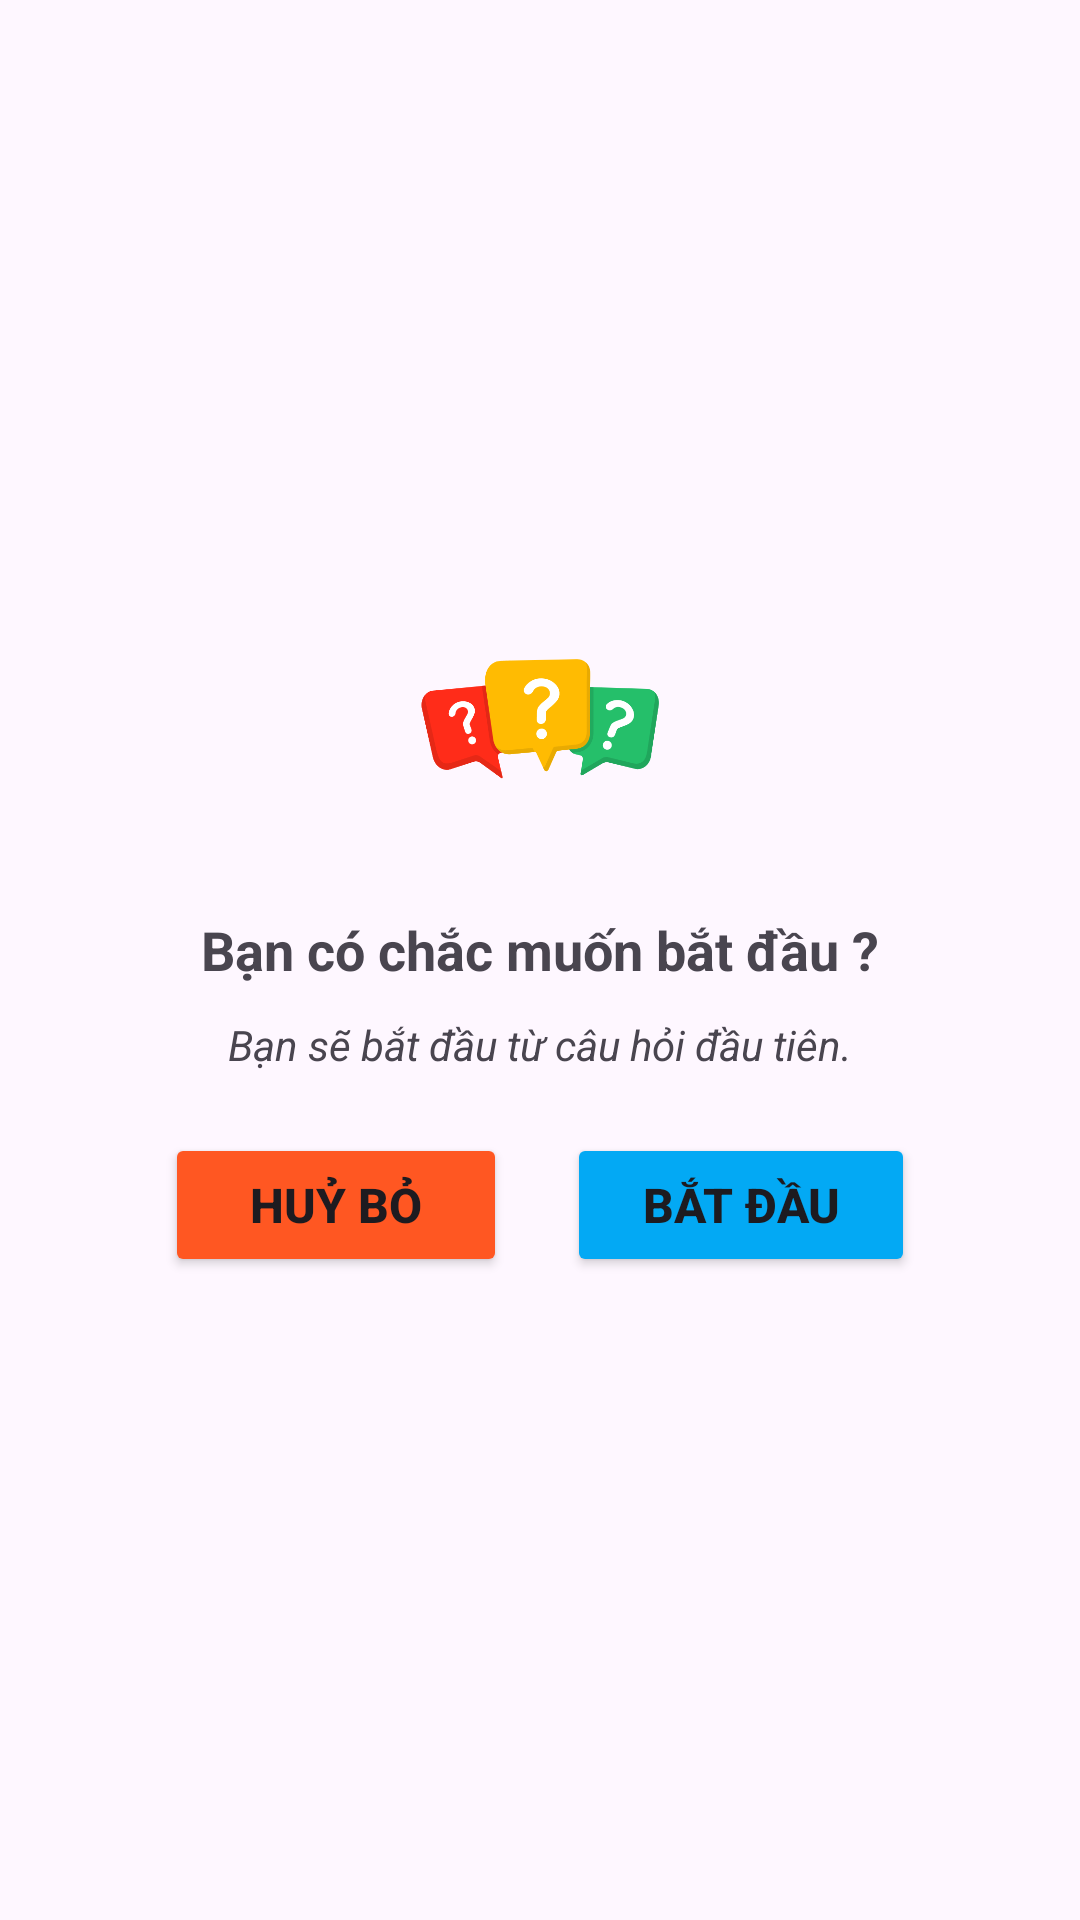

Icons on this 1080x1920 Android screen, each with its box as (x1, y1, x2, y2):
questions: (421, 659, 659, 779)
